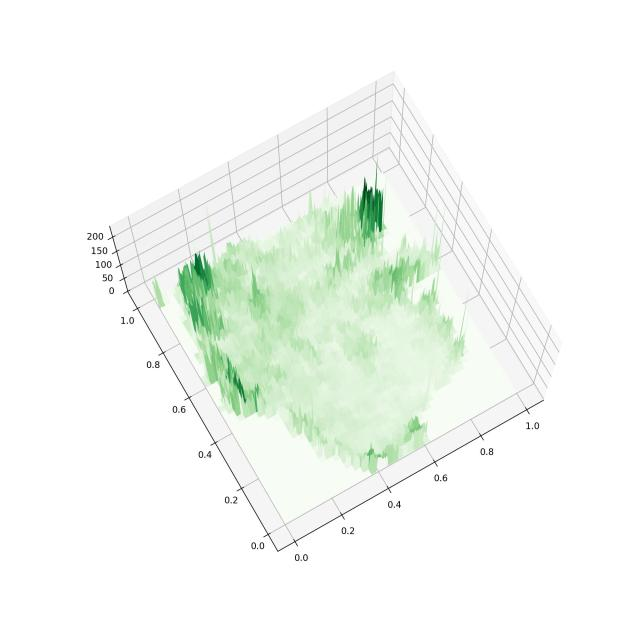pine: (75, 46, 574, 606)
